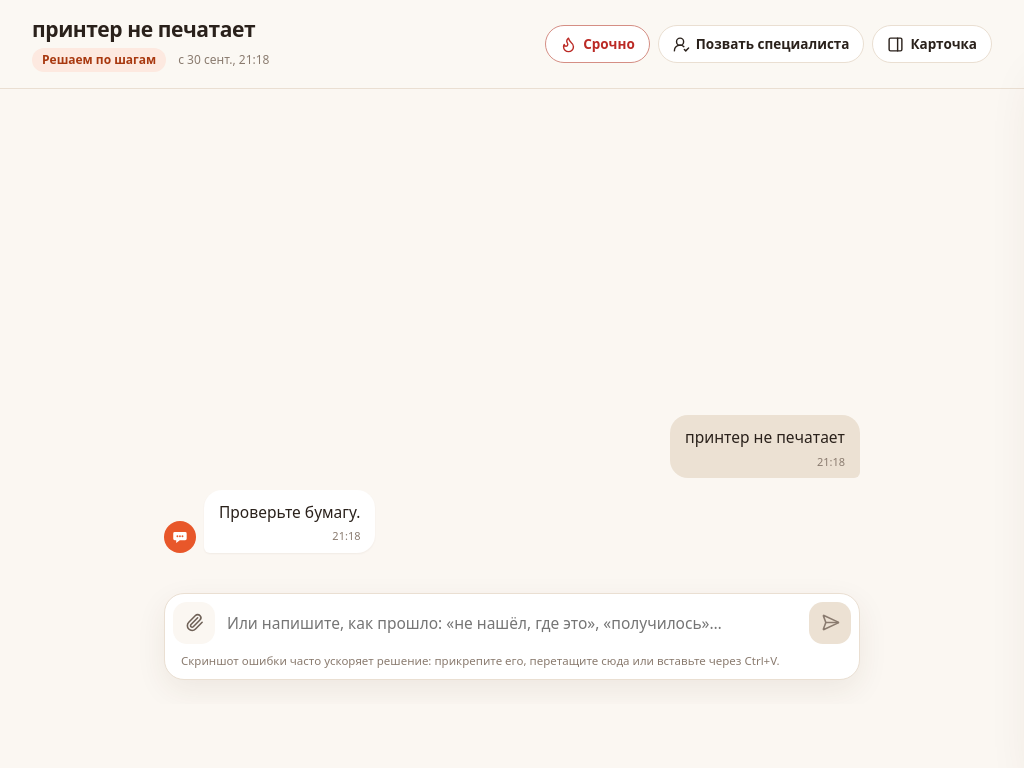
Scenario: «Срочно» › hands the request over at once and shows when a specialist answers
What coordinates should you click on to do the following:
click the button "Срочно"
I would click on:
 (597, 44)
Its box is left=545, top=25, right=650, bottom=63.
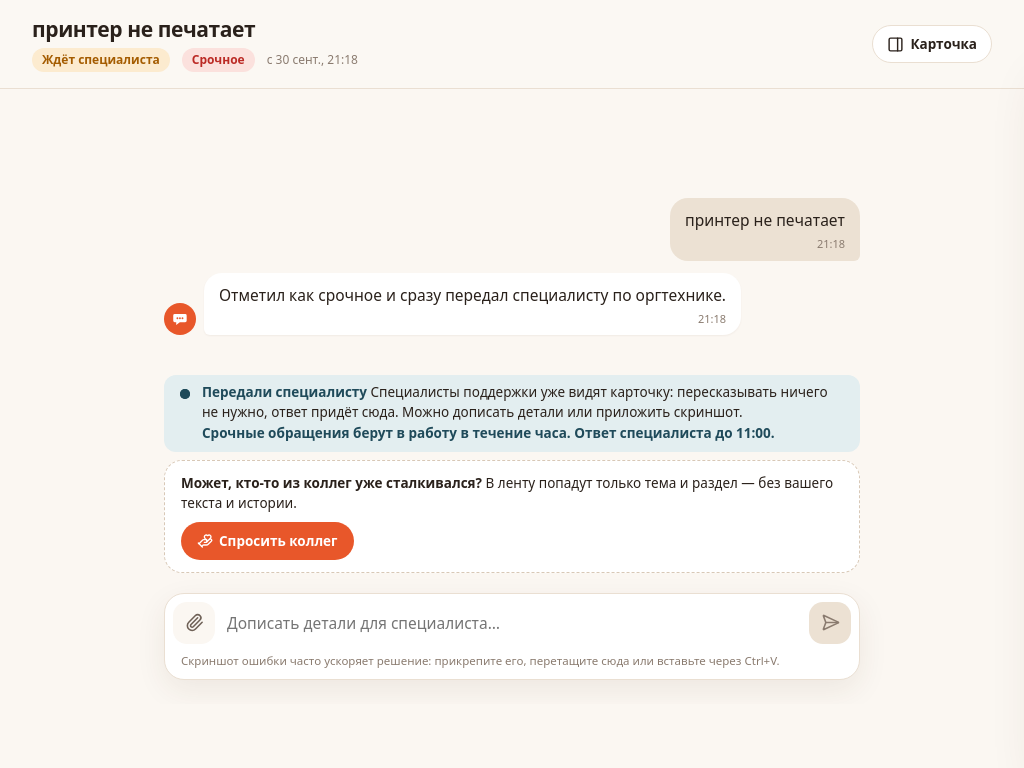
Expected: the text "Отметил как срочное" is shown, left=219, top=284, right=726, bottom=306
Expected: the text "Срочное" is shown, left=182, top=48, right=255, bottom=72
